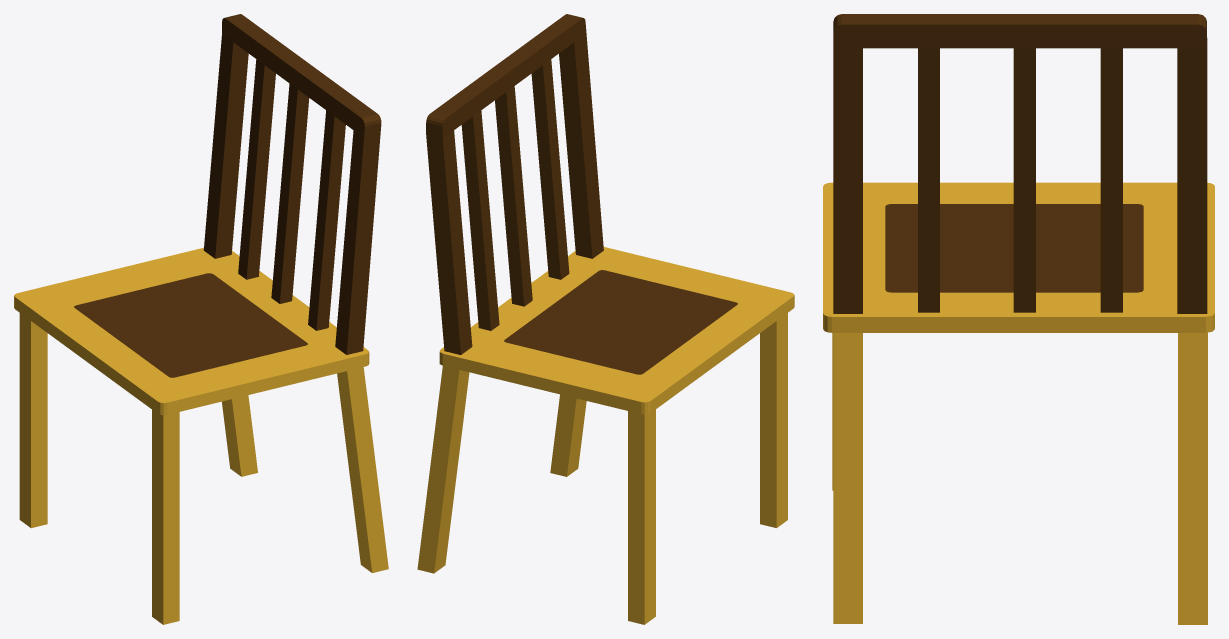
The model's file is basic_chair.fbx.
3 views of the same model, side by side, from view 1: azimuth 30°, elevation 25°; view 2: azimuth 150°, elevation 25°; view 3: azimuth 270°, elevation 25° (orthographic). The views are drawn at different scales.
Visible parts, largest first — view 1: Cube.015; view 2: Cube.015; view 3: Cube.015.
Part boxes in pixels (box(x1,y1,x2,y2)): Cube.015: box(14, 14, 388, 624); Cube.015: box(417, 14, 794, 624); Cube.015: box(823, 14, 1214, 624).
Bounding box in the file's own units: 399 × 745 × 445.
